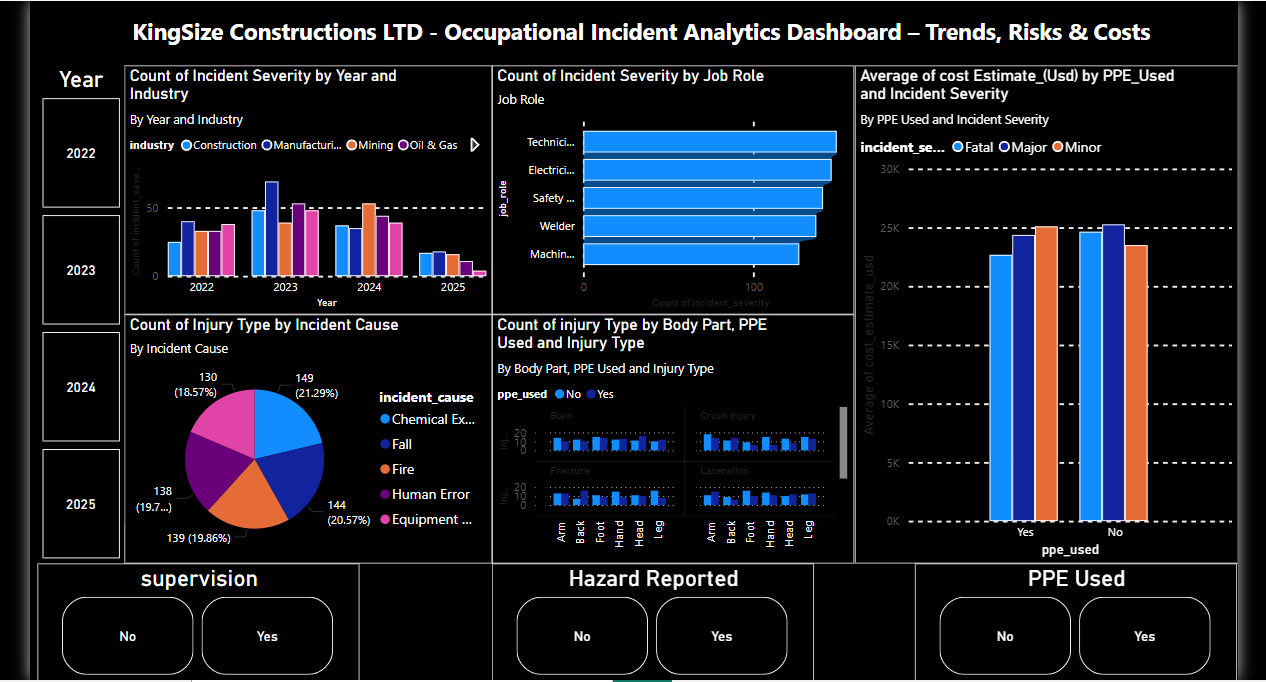

The dashboard page shown, as its layout file describes it:
{"tool":"powerbi","page":{"name":"KingSize Constructions LTD - Occupational Incident Analytics Dashboard","canvas":[1280,720],"ordinal":0},"visuals":[{"type":"textbox","box":[59.9,9.7,1175.6,58.3],"z":0},{"type":"clusteredColumnChart","title":"Count of Incident Severity by Year and Industry","fields":{"Category":["ohs_incident_dataset_700.date.Variation.Date Hierarchy.Year"],"Y":["CountNonNull(ohs_incident_dataset_700.incident_severity)"],"Series":["ohs_incident_dataset_700.industry"]},"box":[100.4,68,390.2,263.9],"z":1000},{"type":"barChart","title":"Count of Incident Severity by Job Role","fields":{"Category":["ohs_incident_dataset_700.job_role"],"Y":["CountNonNull(ohs_incident_dataset_700.incident_severity)"]},"box":[490.6,68,383.8,263.9],"z":2000},{"type":"pieChart","title":"Count of Injury Type by Incident Cause","fields":{"Y":["CountNonNull(ohs_incident_dataset_700.injury_type)"],"Category":["ohs_incident_dataset_700.incident_cause"]},"box":[100.4,331.9,390.2,263.9],"z":3000},{"type":"lineClusteredColumnComboChart","title":"Count of injury Type by Body Part, PPE Used and Injury Type","fields":{"Y":["CountNonNull(ohs_incident_dataset_700.injury_type)"],"Category":["ohs_incident_dataset_700.body_part"],"Series":["ohs_incident_dataset_700.ppe_used"],"Rows":["ohs_incident_dataset_700.injury_type"]},"box":[490.6,331.9,383.8,263.9],"z":4000},{"type":"lineClusteredColumnComboChart","title":"Average of cost Estimate_(Usd) by PPE_Used and Incident Severity","fields":{"Category":["ohs_incident_dataset_700.ppe_used"],"Y":["Avg(ohs_incident_dataset_700.cost_estimate_usd)"],"Series":["ohs_incident_dataset_700.incident_severity"]},"box":[874.4,68,406.4,527.9],"z":5000},{"type":"advancedSlicerVisual","fields":{"Values":["ohs_incident_dataset_700.date.Variation.Date Hierarchy.Year"]},"box":[8.1,68,92.3,527.9],"z":6000},{"type":"advancedSlicerVisual","fields":{"Values":["ohs_incident_dataset_700.supervision"]},"box":[8.1,595.9,341.7,124.7],"z":7000},{"type":"advancedSlicerVisual","fields":{"Values":["ohs_incident_dataset_700.hazard_reported"]},"box":[490.6,595.9,341.7,124.7],"z":8000},{"type":"advancedSlicerVisual","fields":{"Values":["ohs_incident_dataset_700.ppe_used"]},"box":[939.2,595.9,341.7,124.7],"z":9000}]}

Visuals, with their boxes on the page's 1280x720 design canvas (x1, y1, x2, y2). These are canvas units, not pixel positions in the 1266x682 screenshot, which may show the page scaled, cropped or inside an application window:
textbox: pyautogui.locateOnScreen(60, 10, 1236, 68)
"Count of Incident Severity by Year and Industry" clusteredColumnChart: pyautogui.locateOnScreen(100, 68, 491, 332)
"Count of Incident Severity by Job Role" barChart: pyautogui.locateOnScreen(491, 68, 874, 332)
"Count of Injury Type by Incident Cause" pieChart: pyautogui.locateOnScreen(100, 332, 491, 596)
"Count of injury Type by Body Part, PPE Used and Injury Type" lineClusteredColumnComboChart: pyautogui.locateOnScreen(491, 332, 874, 596)
"Average of cost Estimate_(Usd) by PPE_Used and Incident Severity" lineClusteredColumnComboChart: pyautogui.locateOnScreen(874, 68, 1281, 596)
advancedSlicerVisual - ohs_incident_dataset_700.date.Variation.Date Hierarchy.Year: pyautogui.locateOnScreen(8, 68, 100, 596)
advancedSlicerVisual - ohs_incident_dataset_700.supervision: pyautogui.locateOnScreen(8, 596, 350, 721)
advancedSlicerVisual - ohs_incident_dataset_700.hazard_reported: pyautogui.locateOnScreen(491, 596, 832, 721)
advancedSlicerVisual - ohs_incident_dataset_700.ppe_used: pyautogui.locateOnScreen(939, 596, 1281, 721)
